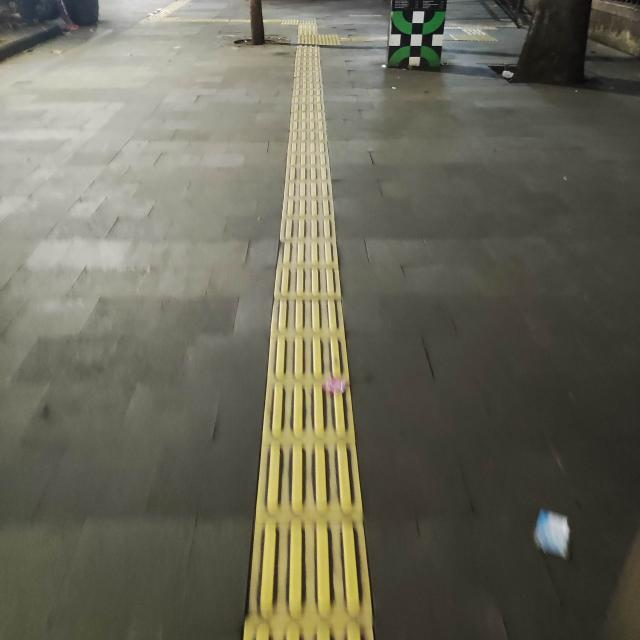lurus: (260, 46, 356, 640)
